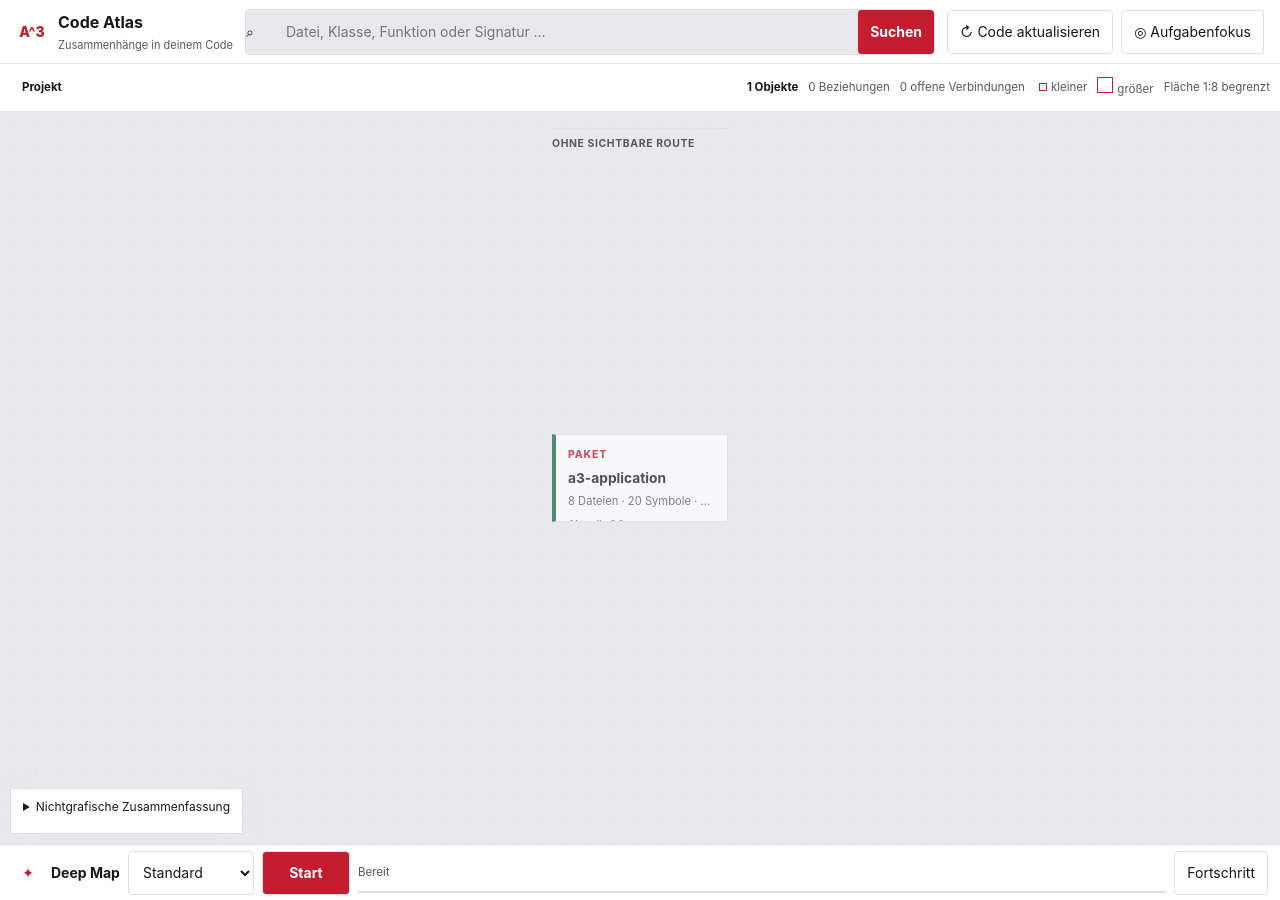
Scenario: U12 progressive Code Atlas workspace › retries a failed semantic zoom at the same entity instead of returning to project level
The image size is (1280, 900).
Click the button with aria-label "a3-application, Paket": [640, 478] box left=552, top=434, right=728, bottom=522
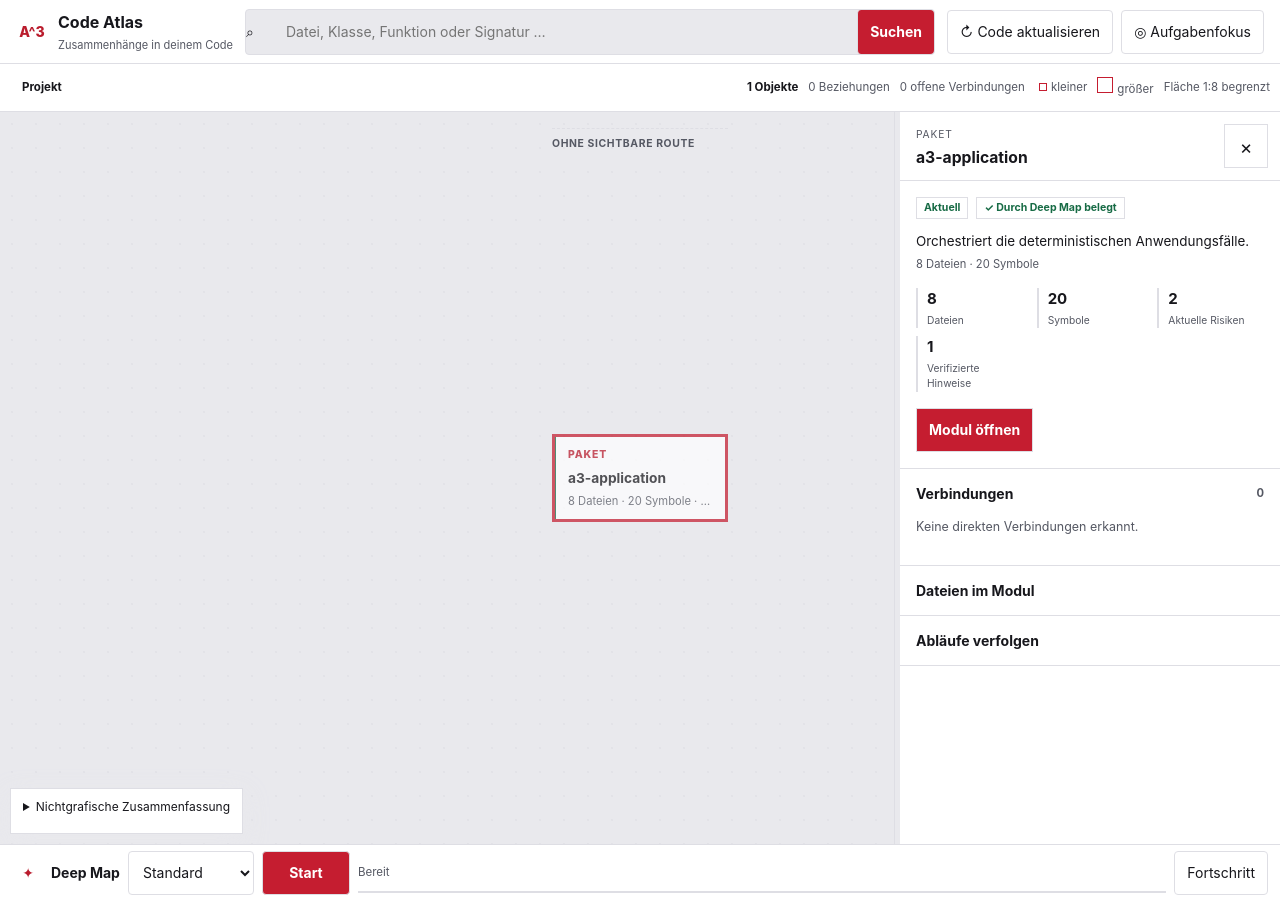
Click the button "Modul öffnen": [975, 430] box left=916, top=408, right=1033, bottom=452
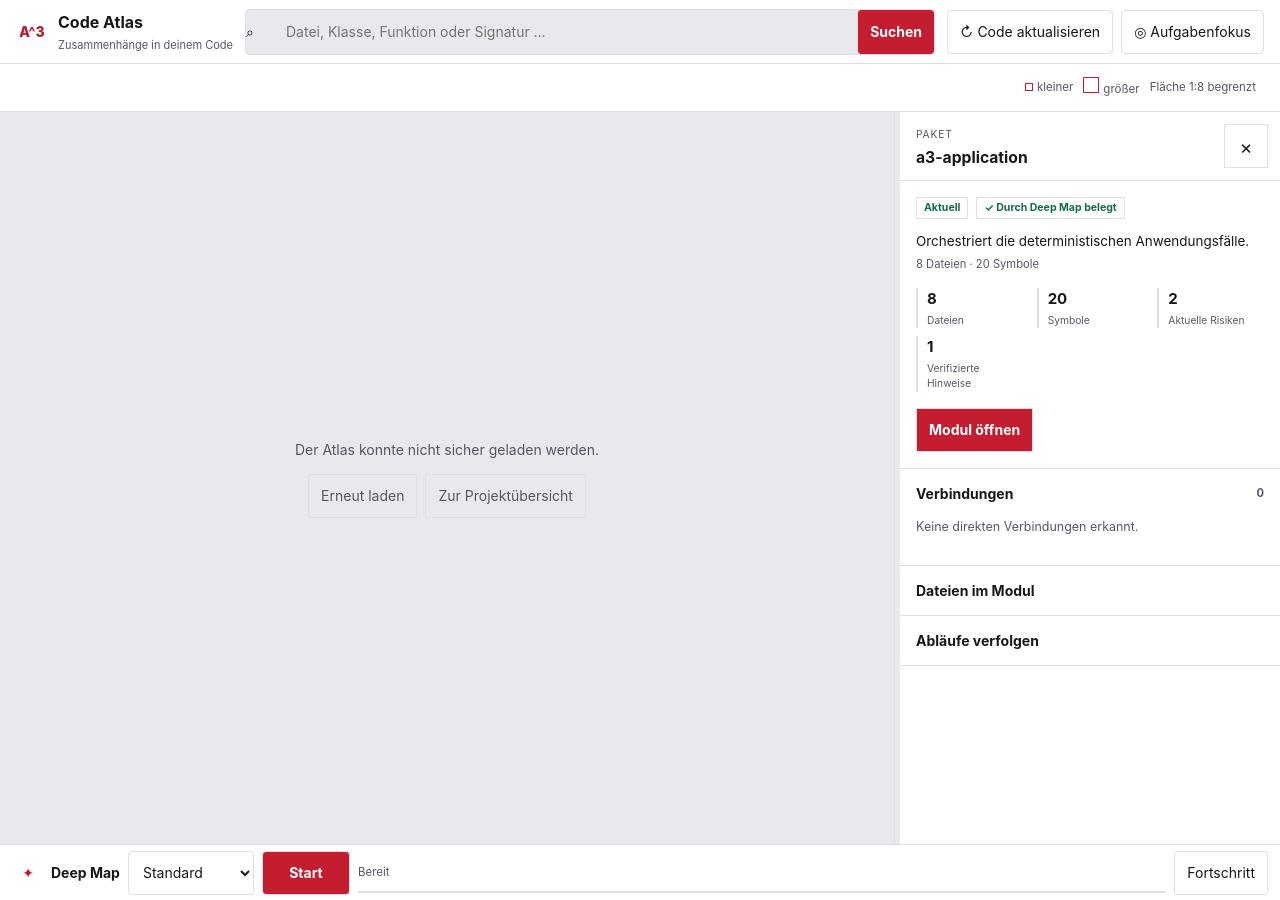
Result: the text "Der Atlas konnte nicht sicher geladen werden." is shown at left=295, top=438, right=599, bottom=460
Click the button "Erneut laden": [363, 496] box left=308, top=474, right=418, bottom=518
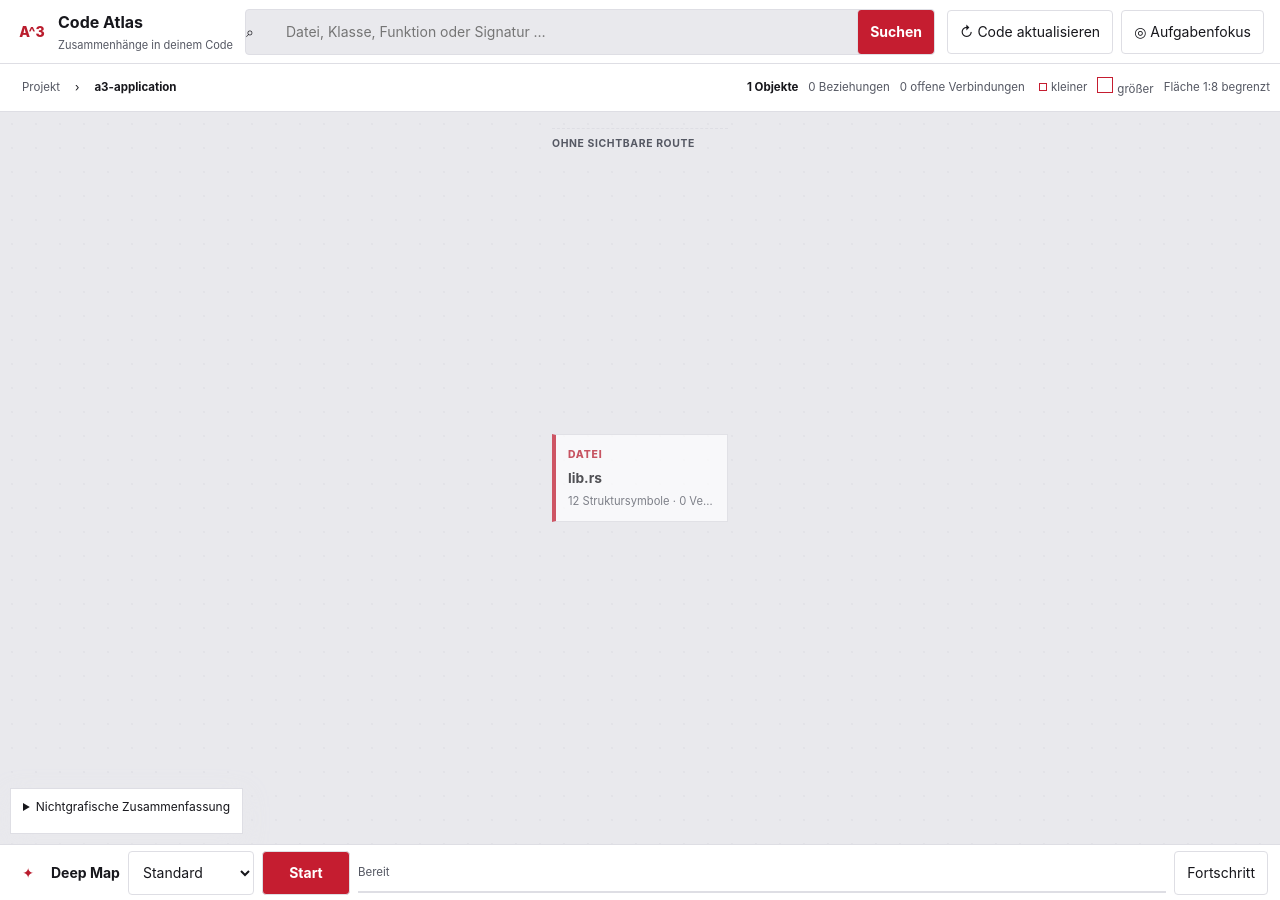
Result: the button with aria-label "lib.rs, Datei" is shown at left=552, top=434, right=728, bottom=522
